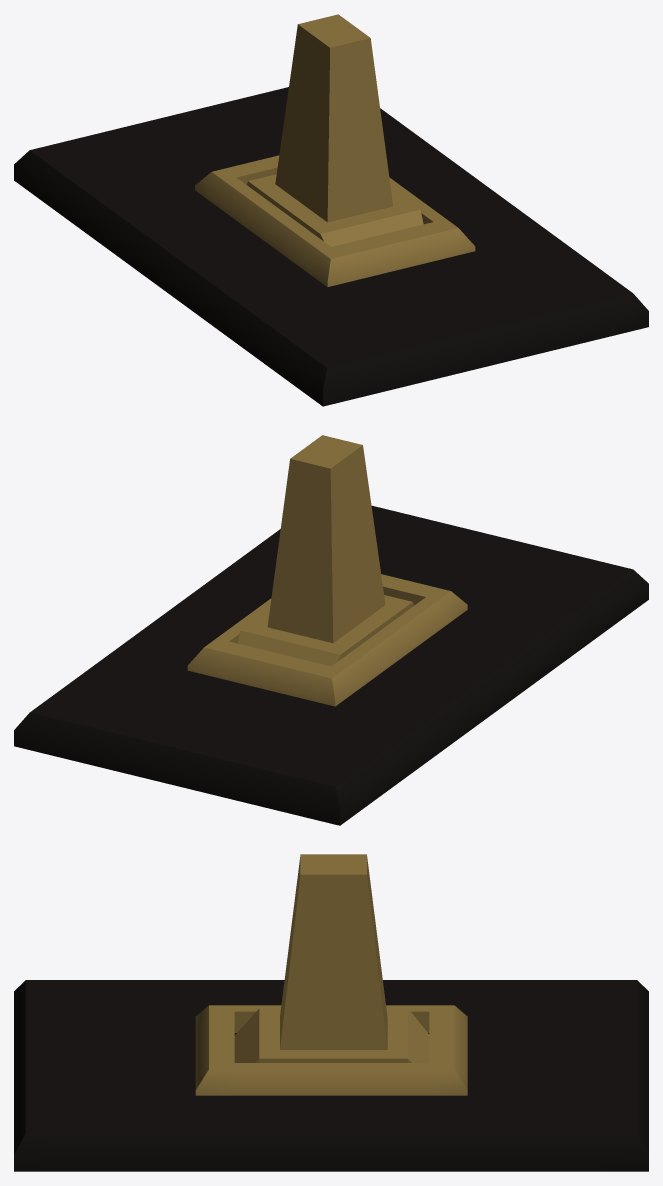
Rendered from action_scwitch_01.FBX.
The picture shows the model from 3 angles, top to bottom: view 1: azimuth 30°, elevation 25°; view 2: azimuth 150°, elevation 25°; view 3: azimuth 270°, elevation 25°; orthographic projection. The views are drawn at different scales.
Parts seen in each view (by area): view 1: Box020, Object002; view 2: Box020, Object002; view 3: Box020, Object002.
Boxes of the visible parts, box(x1,y1,x2,y2) form: Box020: box(14, 87, 648, 406); Object002: box(246, 14, 423, 246); Box020: box(14, 505, 648, 825); Object002: box(238, 435, 414, 666); Box020: box(14, 980, 648, 1171); Object002: box(234, 854, 429, 1062).
Bounding box in the file's own units: 17.81 × 12.88 × 29.22.
